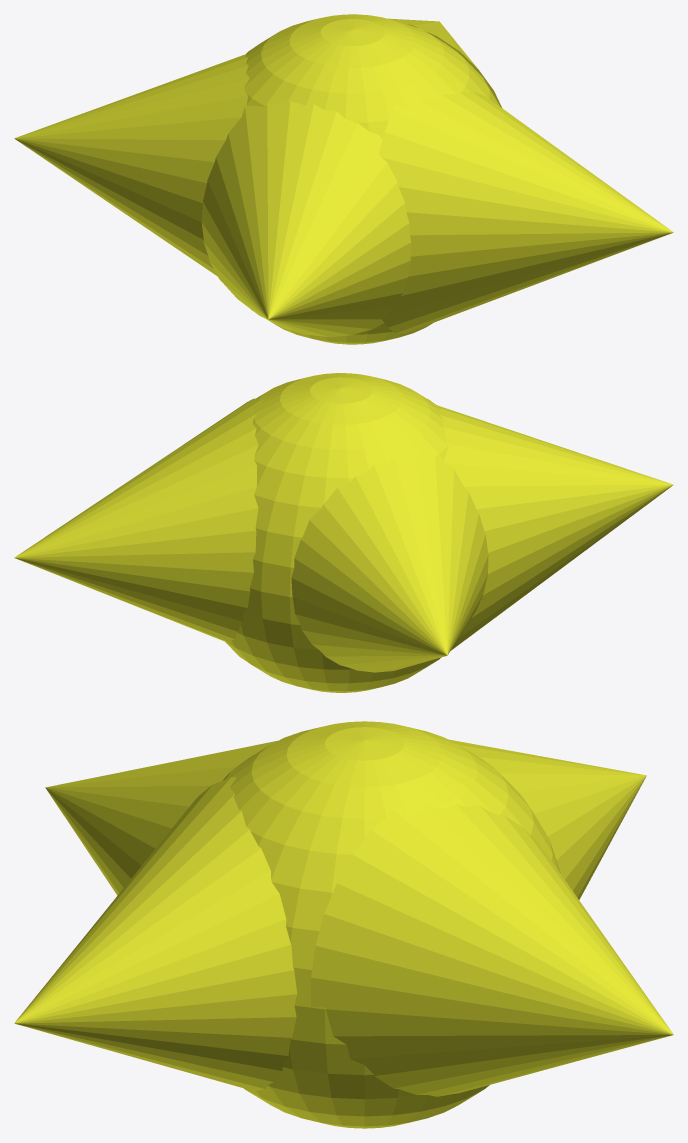
Rendered from star.glb.
3 renders of one model, top to bottom at view 1: azimuth 30°, elevation 25°; view 2: azimuth 150°, elevation 25°; view 3: azimuth 270°, elevation 25°, orthographic. The views are drawn at different scales.
Parts seen in each view (by area): view 1: Cone.002; view 2: Cone.002; view 3: Cone.002.
Boxes of the visible parts, x1,y1,x2,y2 form: Cone.002: (14, 14, 673, 344); Cone.002: (14, 373, 673, 692); Cone.002: (14, 721, 673, 1128).
Size of the model in its own units: 3.92 by 2.57 by 4.16.
